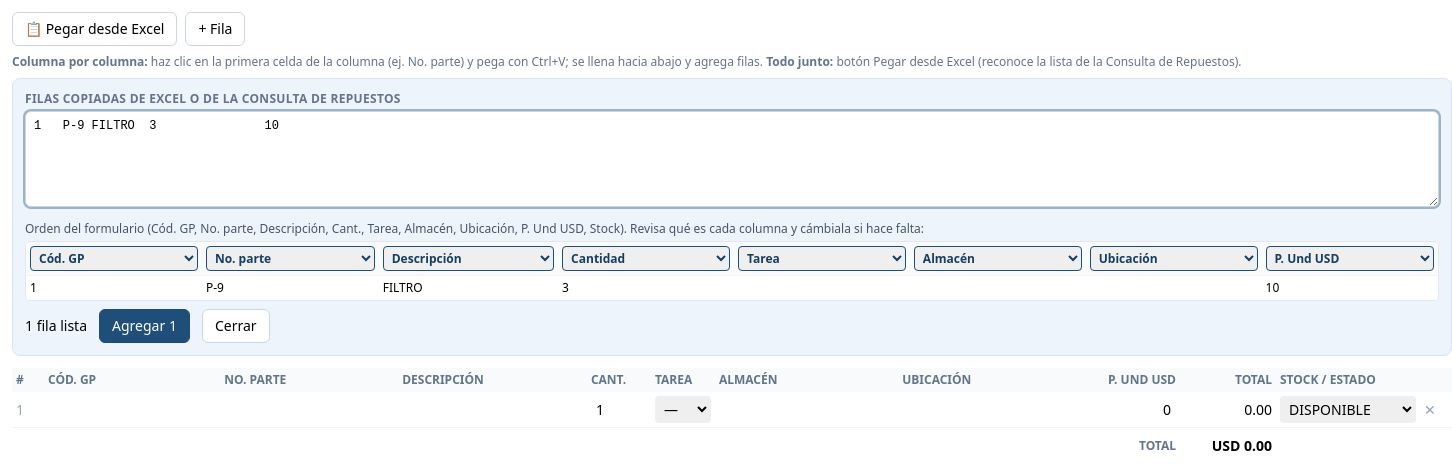
it: TablaRepuestos › pegar directo sobre la tabla también funciona
This screenshot has width=1452, height=468.
Click the button "Agregar 1" at [144, 326], box x1=99 y1=309 x2=190 y2=343
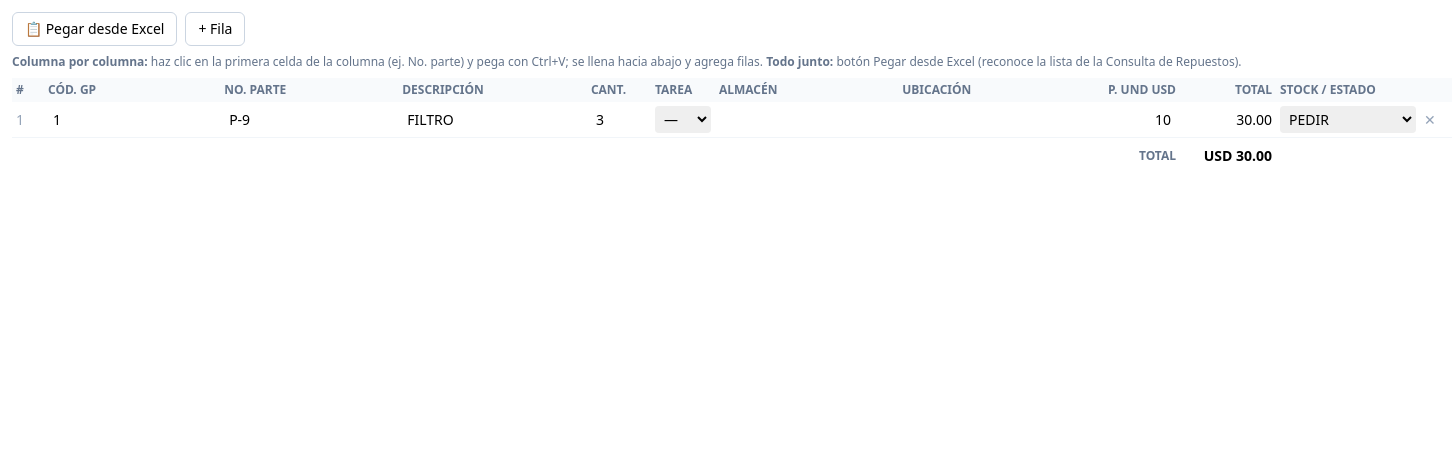
Check: the field showing "P-9" is shown, box x1=224 y1=106 x2=394 y2=132
Check: the text "USD 30.00" is shown, box x1=1180 y1=138 x2=1276 y2=174
